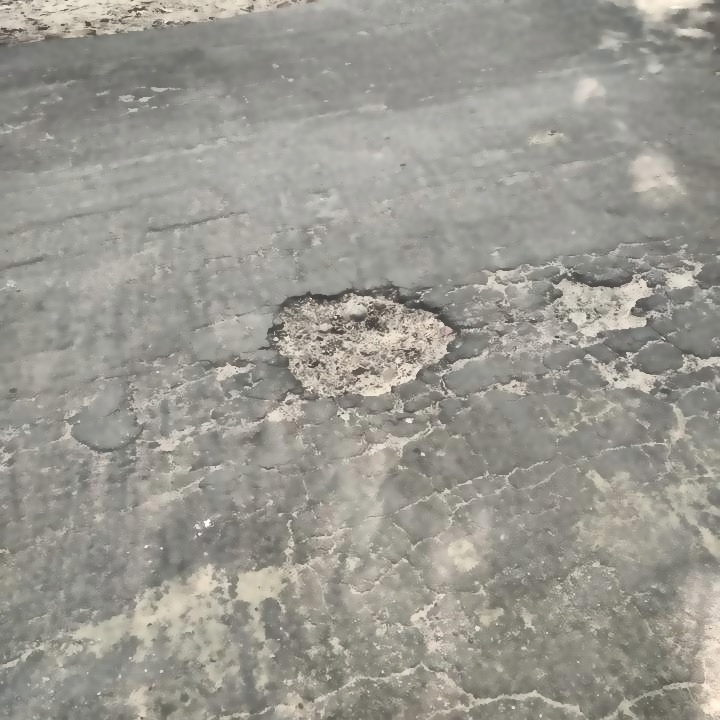pothole: (267, 282, 464, 400), (548, 266, 658, 336)
